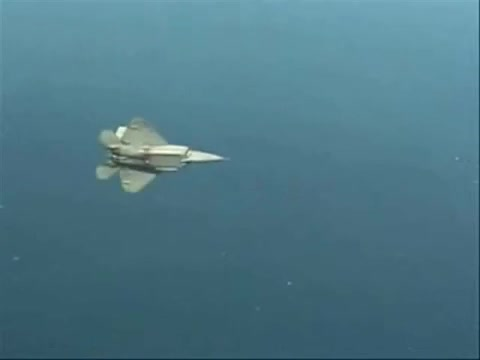aeroplane: (96, 119, 229, 195)
